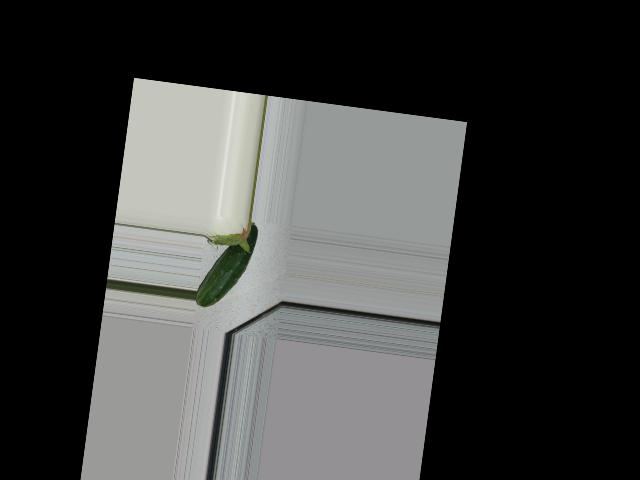cucumber: (194, 216, 258, 313)
